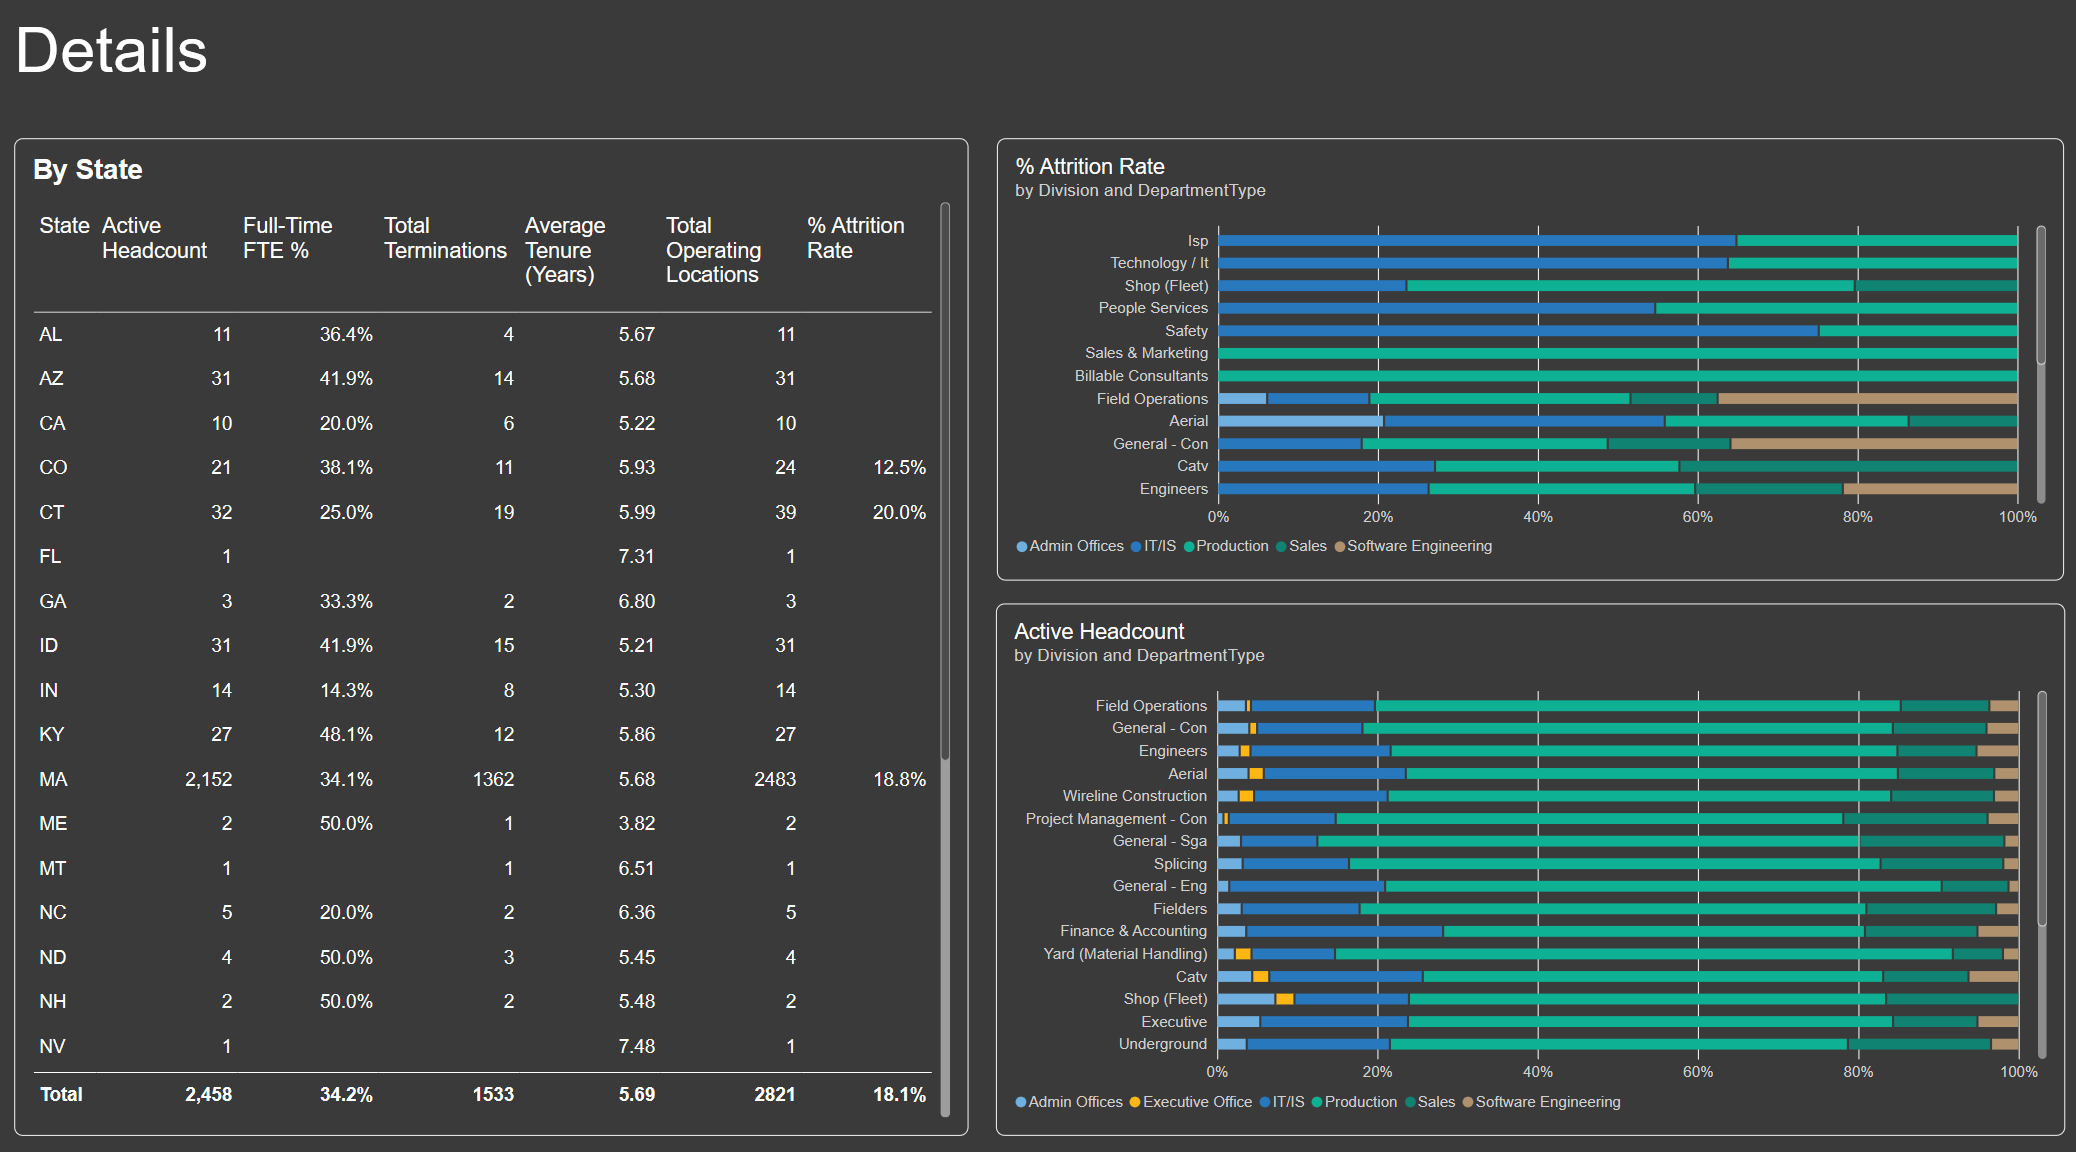

What the dashboard file says about the page in this screenshot:
{"tool":"powerbi","page":{"name":"Details","canvas":[1920,1080],"ordinal":1},"visuals":[{"type":"tableEx","title":"By State","fields":{"Values":["dim_employee.State","Measures_.Active Headcount","Measures_.Full-Time FTE %","Measures_.Total Terminations","Measures_.Average Tenure (Years)","Measures_.Total Operating Locations","Measures_.% Attrition Rate"]},"box":[13.6,132.4,880.8,919.8],"z":1000},{"type":"hundredPercentStackedBarChart","fields":{"Category":["dim_employee.Division"],"Series":["dim_employee.DepartmentType"],"Y":["Measures_.Active Headcount"]},"box":[918.9,561.5,985.6,490.8],"z":2000},{"type":"hundredPercentStackedBarChart","fields":{"Category":["dim_employee.Division"],"Series":["dim_employee.DepartmentType"],"Y":["Measures_.% Attrition Rate"]},"box":[920,132,984,408],"z":2001},{"type":"textbox","box":[13.6,17,775.6,96.7],"z":2002}]}

Visuals, with their boxes in screenshot pixels (x1, y1, x2, y2), scaled from the page's 1920x1080 canvas onto the 2076x1152 screenshot:
"By State" tableEx: 15 141 967 1122
hundredPercentStackedBarChart - dim_employee.Division x dim_employee.DepartmentType: 994 599 2059 1122
hundredPercentStackedBarChart - dim_employee.Division x dim_employee.DepartmentType: 995 141 2059 576
textbox: 15 18 853 121
